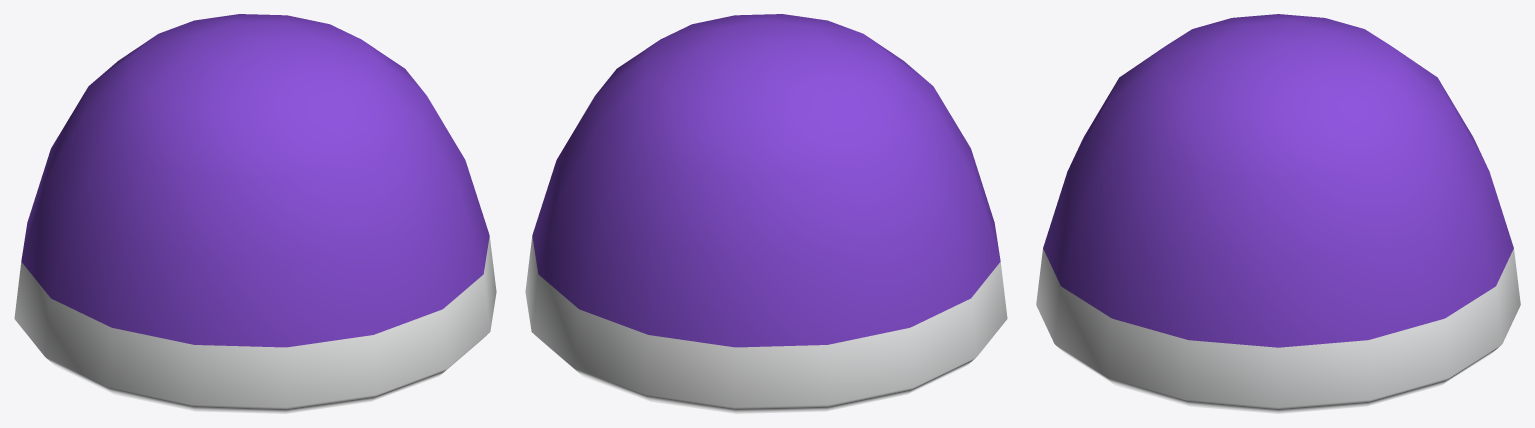
Rendered from candy_005.glb.
The picture shows the model from 3 angles, left to right: view 1: azimuth 30°, elevation 25°; view 2: azimuth 150°, elevation 25°; view 3: azimuth 270°, elevation 25°; orthographic projection.
Parts seen in each view (by area): view 1: candy_005; view 2: candy_005; view 3: candy_005.
Boxes of the visible parts, <box> form: candy_005: <box>14,14,496,413</box>; candy_005: <box>525,14,1007,413</box>; candy_005: <box>1036,14,1520,413</box>.
Bounding box in the file's own units: 2.04 × 1.28 × 2.04.
Materials: 1 (1 with a texture image).
